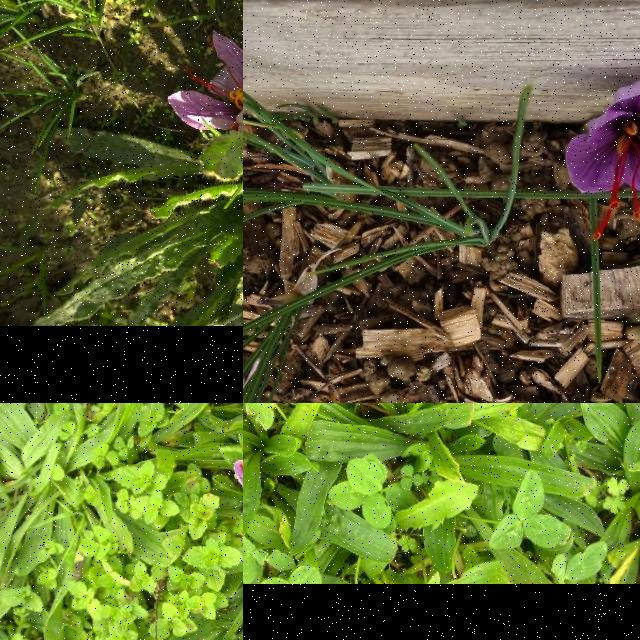flower: (565, 83, 640, 241), (166, 30, 243, 135)
